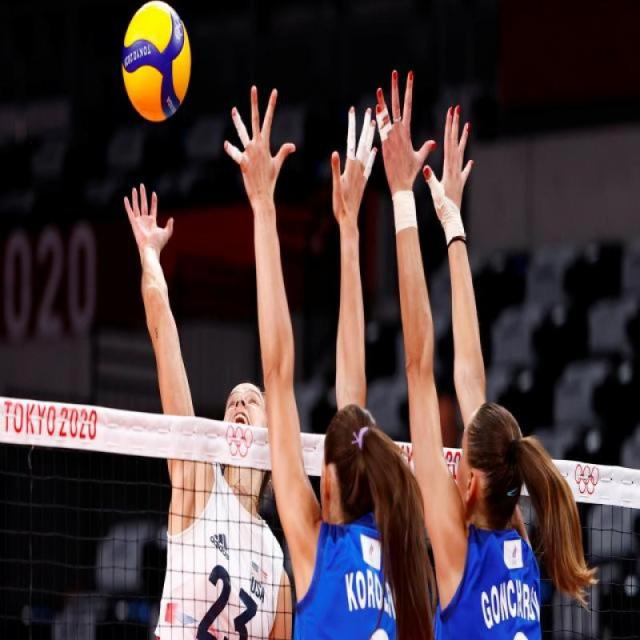volleyball: (118, 0, 195, 128)
